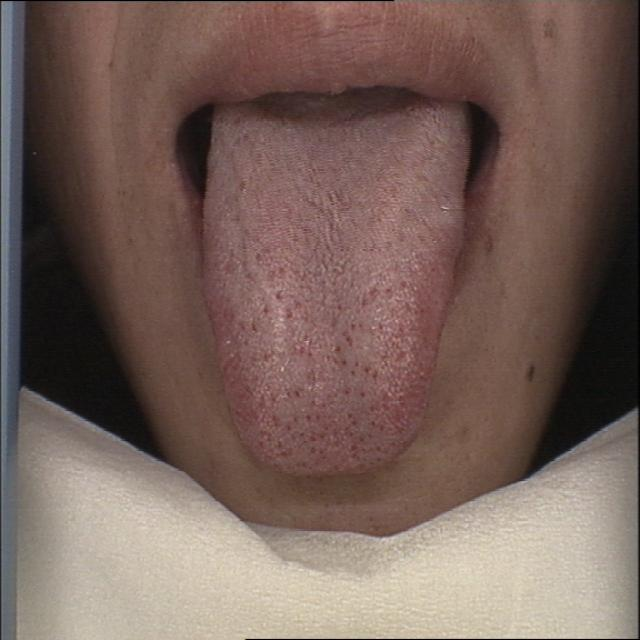tongue: (191, 96, 490, 490)
